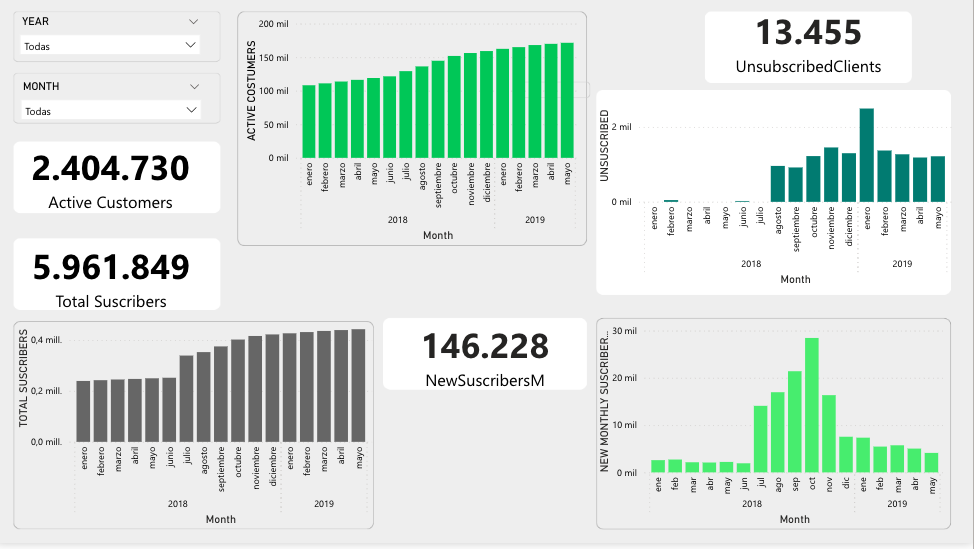

Layout of this report page (visuals, bound fields, positions):
{"tool":"powerbi","page":{"name":"Página 2","canvas":[1280,720],"ordinal":0},"visuals":[{"type":"card","fields":{"Values":["Medidas.ClientesActivos"]},"box":[6.6,187.3,286.9,106.1],"z":0},{"type":"card","fields":{"Values":["Medidas.TotalSuscribers"]},"box":[30.1,321,241.1,98.3],"z":1000},{"type":"card","fields":{"Values":["Medidas.NewSuscribersM"]},"box":[497.9,398.3,285.6,150.7],"z":2000},{"type":"card","fields":{"Values":["Medidas.UnsubscribedClients"]},"box":[931.5,10.5,266,103.5],"z":3000},{"type":"lineClusteredColumnComboChart","title":"New Suscribers ","fields":{"Category":["Calendario M.#Año","Calendario M.MesCorto"],"Y":["Medidas.NewSuscribersM"]},"box":[783.5,428.4,465.1,273.8],"z":4000},{"type":"lineClusteredColumnComboChart","fields":{"Category":["Calendario M.#Año","Calendario M.Mes"],"Y":["Medidas.ClientesActivos"]},"box":[321,26.2,449.4,304],"z":5000},{"type":"lineClusteredColumnComboChart","fields":{"Category":["Calendario M.#Año","Calendario M.Mes"],"Y":["Medidas.UnsubscribedClients"]},"box":[783.5,112.7,474.3,275.1],"z":6000},{"type":"lineClusteredColumnComboChart","fields":{"Y":["Medidas.TotalSuscribers"],"Category":["Calendario M.#Año","Calendario M.Mes"]},"box":[22.3,407.5,475.6,294.8],"z":7000},{"type":"slicer","fields":{"Values":["Calendario M.#Año"]},"box":[21,26.2,256.8,69.4],"z":8000},{"type":"slicer","fields":{"Values":["Calendario M.Mes"]},"box":[22.3,111.4,256.8,79.9],"z":9000}]}

Visuals, with their boxes in screenshot pixels (x1, y1, x2, y2), scaled from the page's 1280x720 canvas onto the 975x549 screenshot:
card - Medidas.ClientesActivos: (x1=5, y1=143, x2=224, y2=224)
card - Medidas.TotalSuscribers: (x1=23, y1=245, x2=207, y2=320)
card - Medidas.NewSuscribersM: (x1=379, y1=304, x2=597, y2=419)
card - Medidas.UnsubscribedClients: (x1=710, y1=8, x2=912, y2=87)
"New Suscribers " lineClusteredColumnComboChart: (x1=597, y1=327, x2=951, y2=535)
lineClusteredColumnComboChart - Calendario M.#Año x Calendario M.Mes: (x1=245, y1=20, x2=587, y2=252)
lineClusteredColumnComboChart - Calendario M.#Año x Calendario M.Mes: (x1=597, y1=86, x2=958, y2=296)
lineClusteredColumnComboChart - Medidas.TotalSuscribers x Calendario M.#Año: (x1=17, y1=311, x2=379, y2=536)
slicer - Calendario M.#Año: (x1=16, y1=20, x2=212, y2=73)
slicer - Calendario M.Mes: (x1=17, y1=85, x2=213, y2=146)
